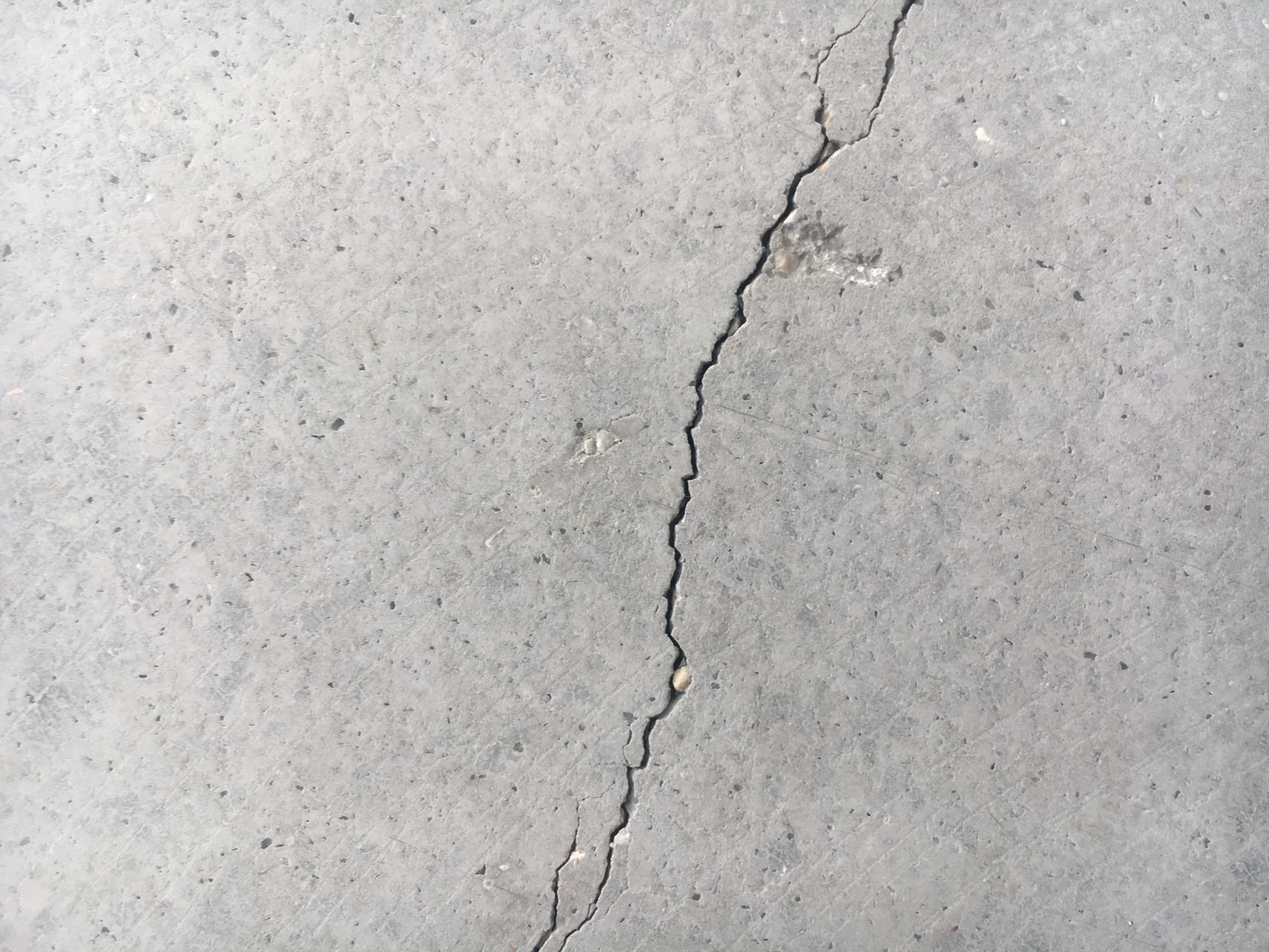Vertical Crack: (526, 1, 923, 948)
